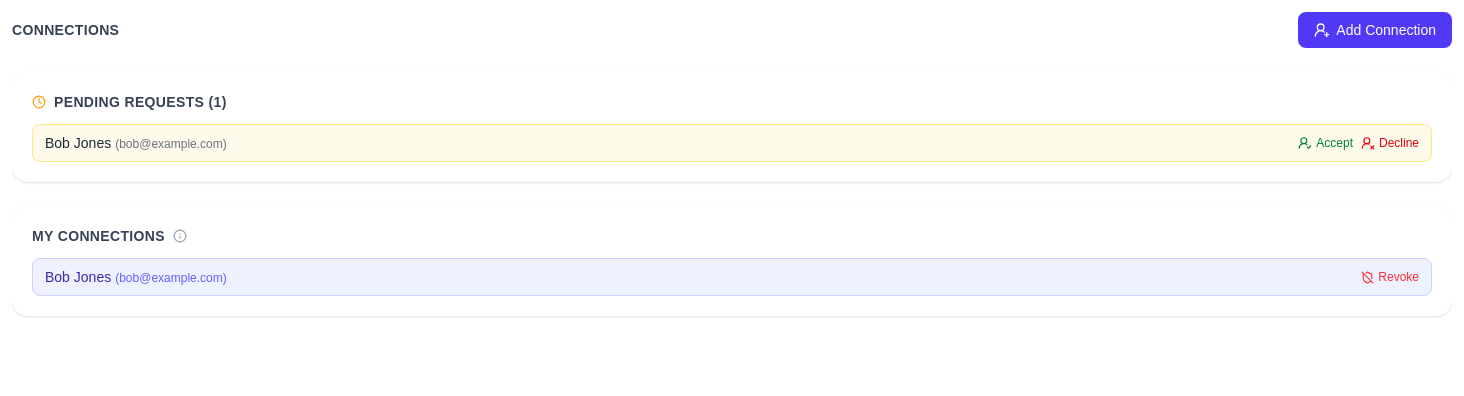
Scenario: ConnectionsPanel — interactions › shows a default error message when accept fails with no error string
Click the button with aria-label "accept request from bob" at (1326, 143), box [1298, 135, 1353, 151]
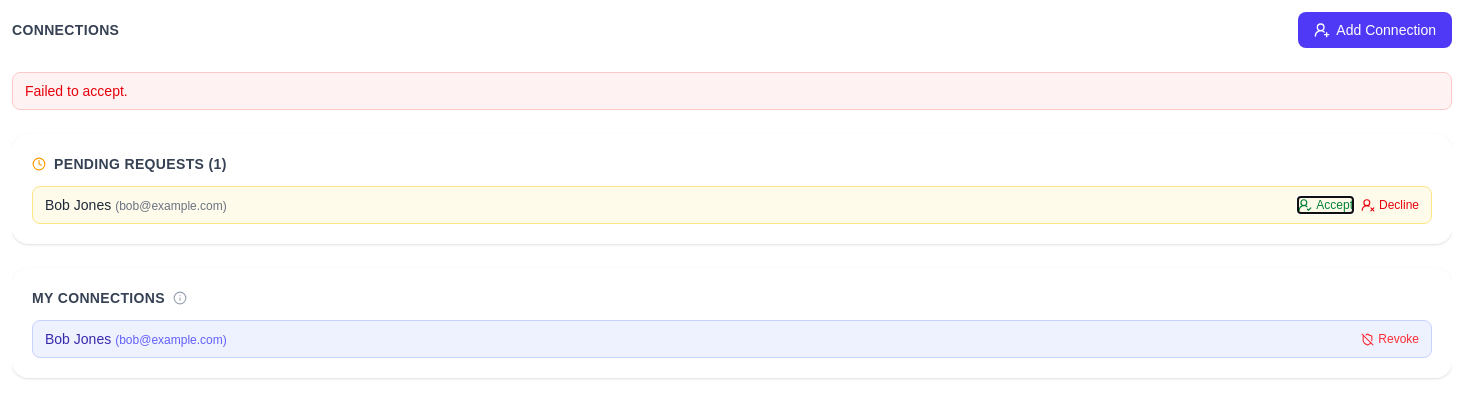
Expected: the text "Failed to accept." is shown, [12, 72, 1452, 110]
